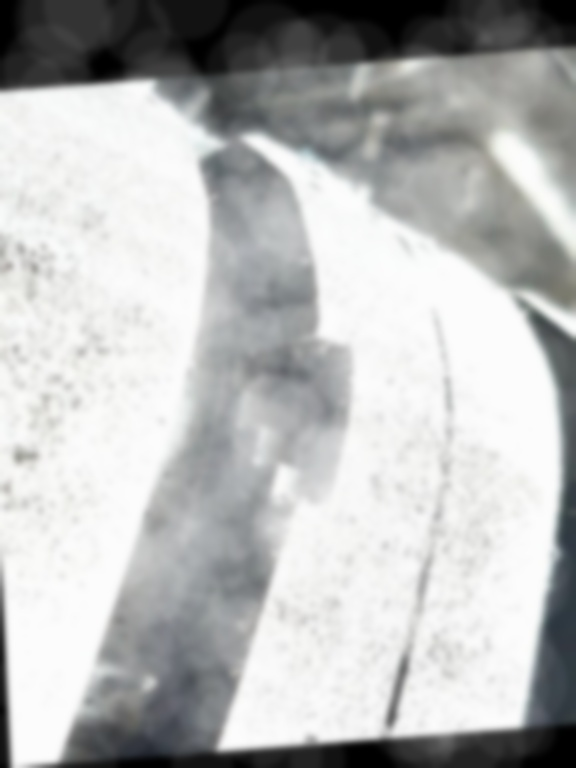temoin:95: (170, 317, 381, 567)
